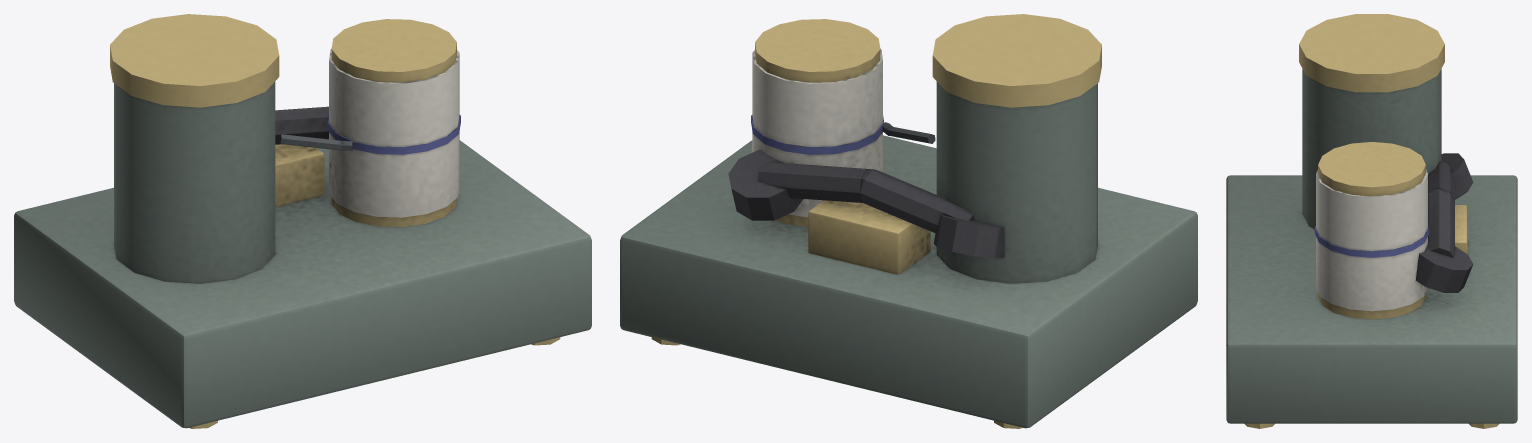
The model's file is seismograph_sv20.glb.
3 renders of one model, left to right at view 1: azimuth 30°, elevation 25°; view 2: azimuth 150°, elevation 25°; view 3: azimuth 270°, elevation 25°, orthographic. The views are drawn at different scales.
Parts seen in each view (by area): view 1: seismograph_sv20; view 2: seismograph_sv20; view 3: seismograph_sv20.
Boxes of the visible parts, x1,y1,x2,y2 form: seismograph_sv20: [14, 14, 591, 428]; seismograph_sv20: [620, 14, 1197, 428]; seismograph_sv20: [1226, 14, 1517, 428].
Size of the model in its own units: 0.36 by 0.257 by 0.26.
1 material, 1 textured.
